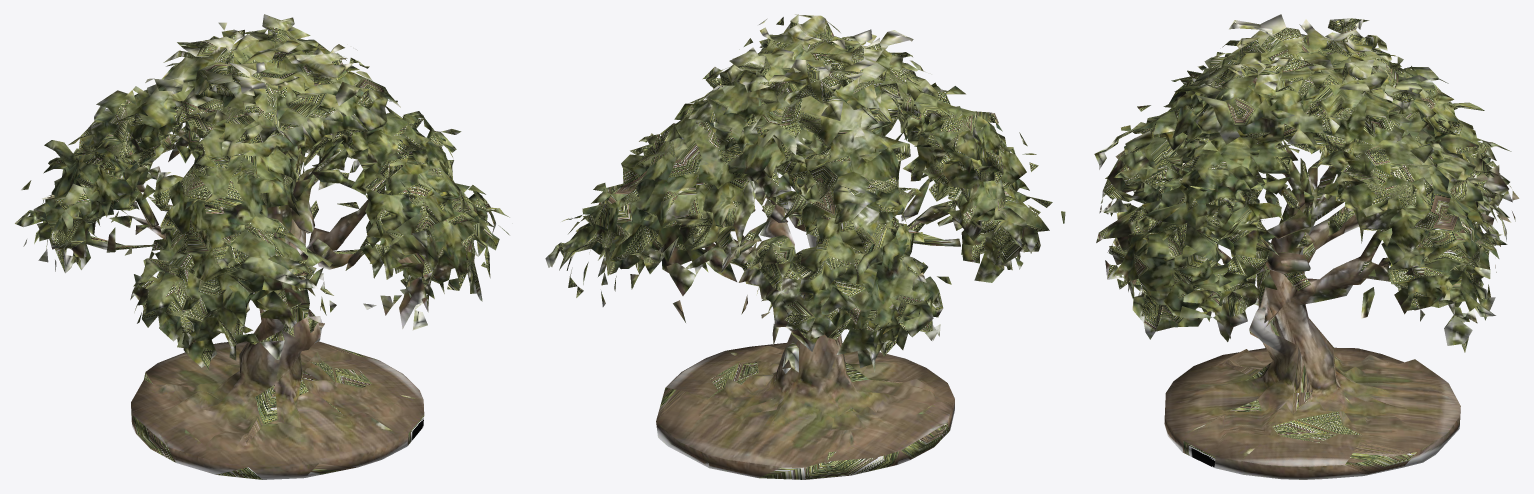
Rendered from street-tree-lod.glb.
3 views of the same model, side by side, from view 1: azimuth 30°, elevation 25°; view 2: azimuth 150°, elevation 25°; view 3: azimuth 270°, elevation 25° (orthographic).
Parts seen in each view (by area): view 1: geometry_0; view 2: geometry_0; view 3: geometry_0.
Part boxes in pixels (x1,y1,x2,y2): geometry_0: (15, 14, 509, 479); geometry_0: (545, 14, 1065, 479); geometry_0: (1094, 14, 1519, 479).
Bounding box in the file's own units: 1.91 × 1.87 × 1.89.
Materials: 1 (1 with a texture image).
